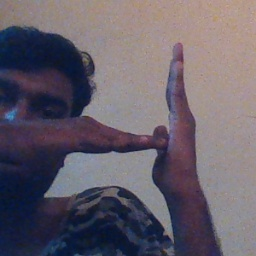Z: (99, 33, 203, 203)
